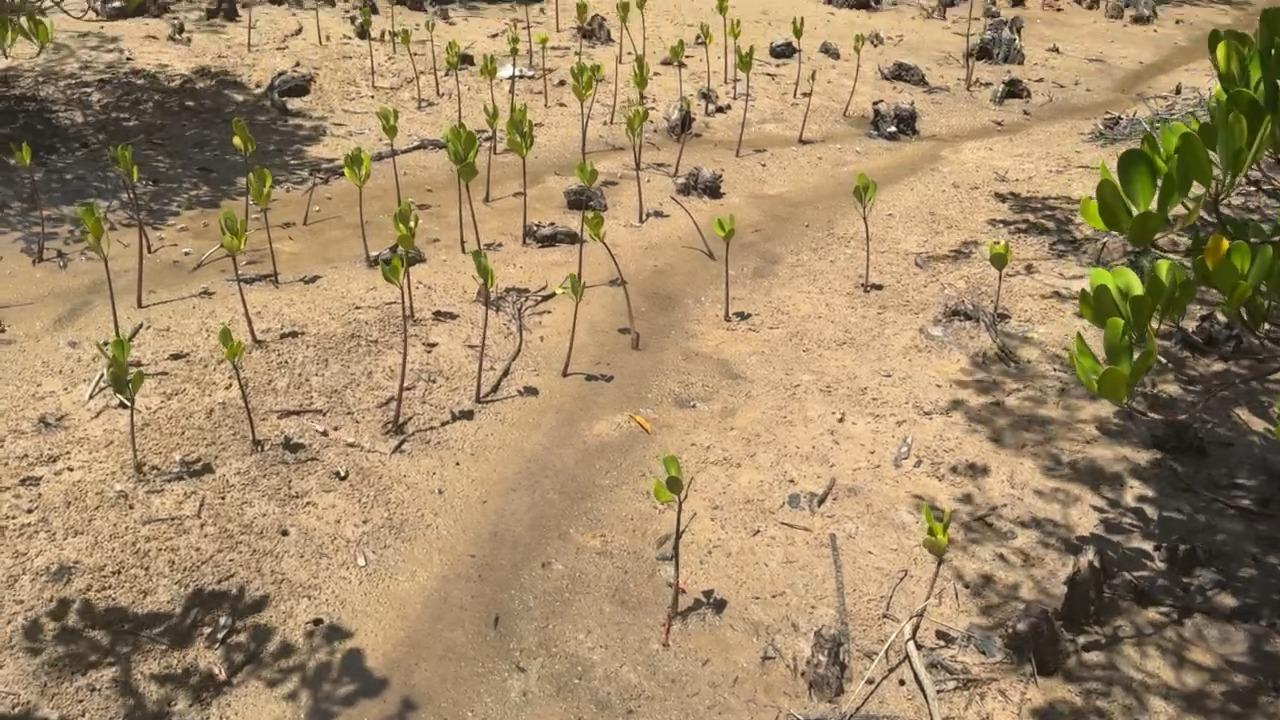Tree: (377, 204, 419, 433), (584, 211, 641, 348), (103, 134, 143, 306), (74, 197, 121, 336), (654, 453, 694, 615), (95, 337, 142, 458), (440, 120, 482, 250), (1, 140, 46, 259), (103, 145, 152, 251), (913, 502, 951, 636), (217, 212, 256, 342), (218, 324, 256, 442), (505, 104, 535, 243), (570, 60, 604, 168), (620, 107, 651, 222), (249, 166, 279, 282), (473, 249, 495, 400), (555, 272, 586, 378), (574, 160, 599, 284), (346, 146, 372, 261), (854, 172, 876, 292), (231, 117, 256, 222), (376, 108, 402, 207), (735, 43, 756, 157), (714, 212, 735, 319), (397, 26, 421, 107), (843, 33, 864, 116), (659, 38, 688, 97), (479, 53, 496, 153), (989, 239, 1010, 314), (483, 104, 499, 202), (673, 95, 692, 175), (445, 39, 462, 126), (696, 21, 714, 92), (506, 22, 520, 113), (614, 0, 637, 55), (800, 69, 817, 142), (424, 19, 439, 95), (361, 6, 374, 88), (632, 54, 652, 106), (615, 0, 631, 64), (729, 18, 741, 103), (717, 0, 729, 84), (792, 14, 803, 97), (576, 0, 589, 62), (303, 170, 317, 226), (636, 0, 648, 59), (540, 33, 548, 106), (965, 0, 972, 79), (611, 56, 619, 124), (526, 0, 532, 63), (390, 0, 397, 54), (316, 0, 322, 44), (247, 0, 252, 51), (555, 0, 560, 32)
